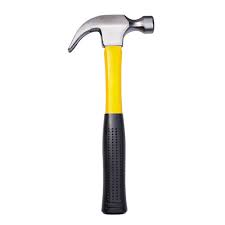hammer: (67, 15, 156, 216)
